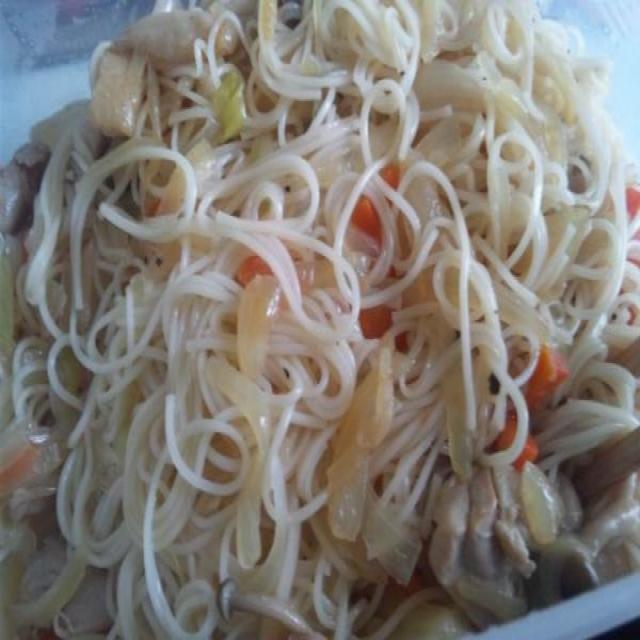面条主食: (7, 9, 624, 626)
